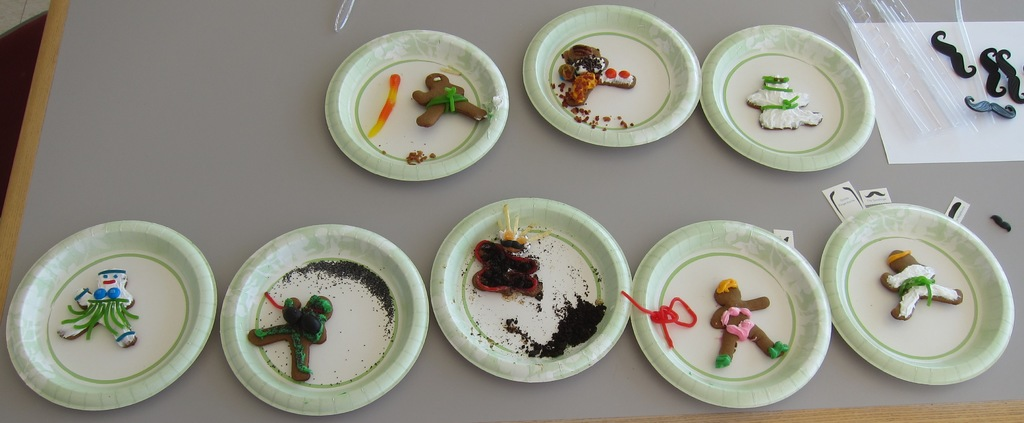plate: (841, 200, 1009, 376)
